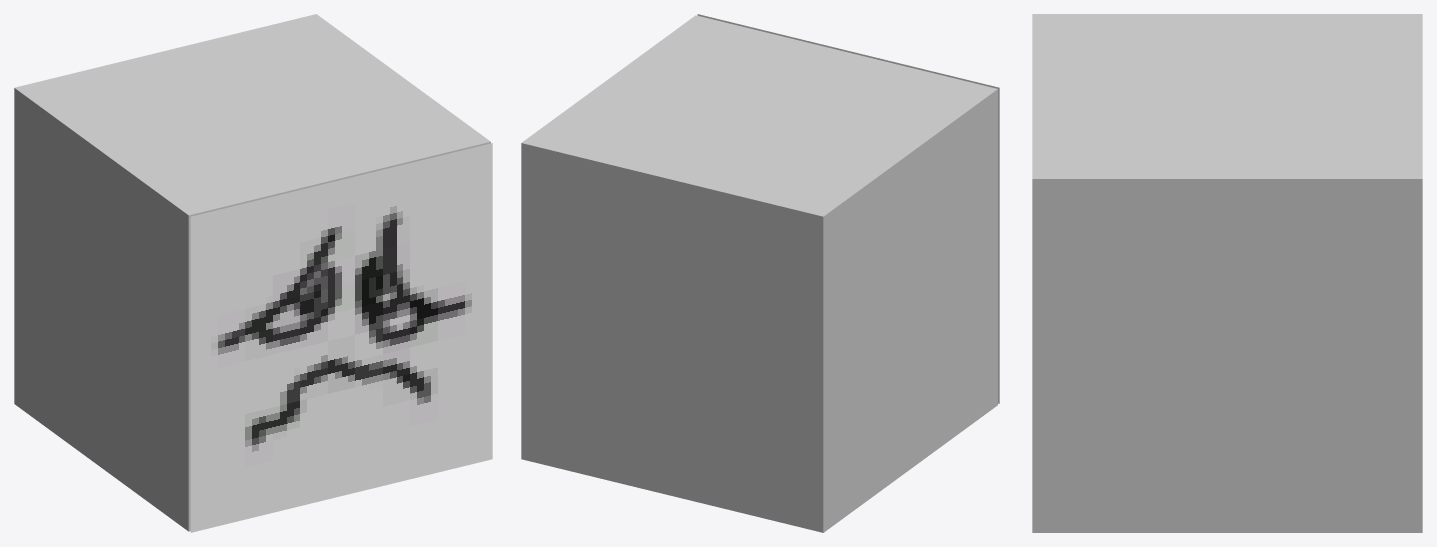
File: sadpet.obj
The picture shows the model from 3 angles, left to right: view 1: azimuth 30°, elevation 25°; view 2: azimuth 150°, elevation 25°; view 3: azimuth 270°, elevation 25°; orthographic projection. The views are drawn at different scales.
Visible parts, largest first — view 1: sadpet; view 2: sadpet; view 3: sadpet.
Boxes of the visible parts, bbox=[...] form: sadpet: bbox=[14, 14, 492, 532]; sadpet: bbox=[521, 14, 999, 532]; sadpet: bbox=[1032, 14, 1422, 532].
Size of the model in its own units: 2 by 2 by 2.02.
Materials: 2 (1 with a texture image).
